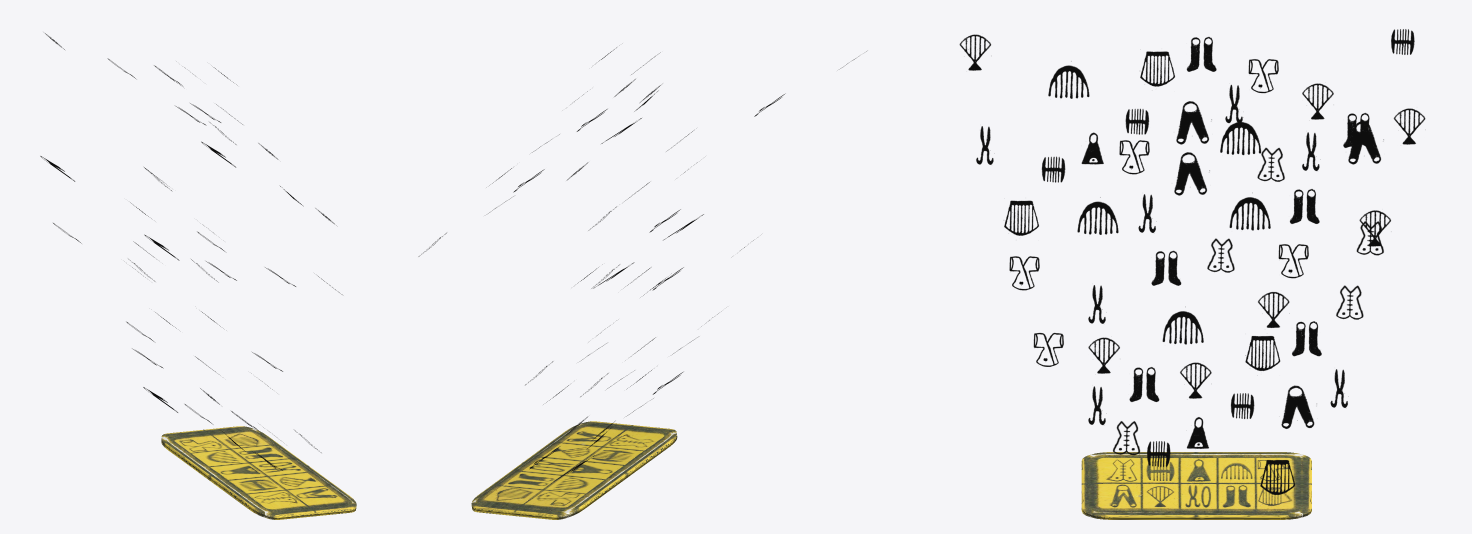
The model's file is plate.glb.
The picture shows the model from 3 angles, left to right: view 1: azimuth 30°, elevation 25°; view 2: azimuth 150°, elevation 25°; view 3: azimuth 270°, elevation 25°; orthographic projection. The views are drawn at different scales.
Visible parts, largest first — view 1: Cube; view 2: Cube; view 3: Cube, 3.001, 3.003, 3, 10.001, 10, 10.002, 10.004, 10.003, 8.001, 8.003, 8.002 (+5 smaller).
Boxes of the visible parts, box(x1,y1,x2,y2) form: Cube: box(161, 426, 356, 519); Cube: box(471, 421, 677, 519); Cube: box(1081, 452, 1311, 519); 3.001: box(1174, 152, 1209, 195); 3.003: box(1176, 101, 1211, 144); 3: box(1281, 385, 1314, 428); 10.001: box(1077, 197, 1118, 234); 10: box(1162, 306, 1203, 344); 10.002: box(1229, 192, 1270, 230); 10.004: box(1048, 61, 1089, 98); 10.003: box(1220, 117, 1261, 155); 8.001: box(1260, 460, 1294, 494); 8.003: box(1004, 200, 1038, 235); 8.002: box(1140, 51, 1174, 86).
Bounding box in the file's own units: 2.51 × 4.29 × 4.59.
Materials: 11 (11 with a texture image).
